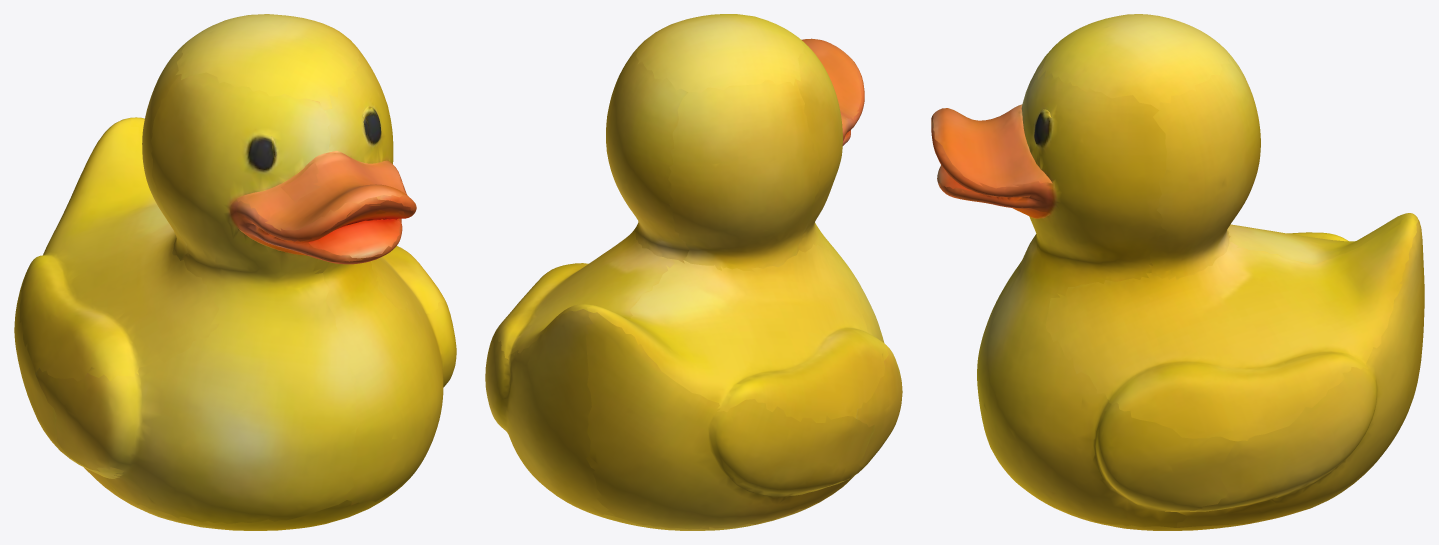
Rendered from duck.glb.
3 views of the same model, side by side, from view 1: azimuth 30°, elevation 25°; view 2: azimuth 150°, elevation 25°; view 3: azimuth 270°, elevation 25° (orthographic). The views are drawn at different scales.
Parts seen in each view (by area): view 1: geometry_0; view 2: geometry_0; view 3: geometry_0.
Part boxes in pixels (<box>): geometry_0: <box>14,14,456,530</box>; geometry_0: <box>485,14,902,530</box>; geometry_0: <box>931,14,1424,530</box>.
Size of the model in its own units: 0.11 by 0.13 by 0.1285.
1 material, 1 textured.
